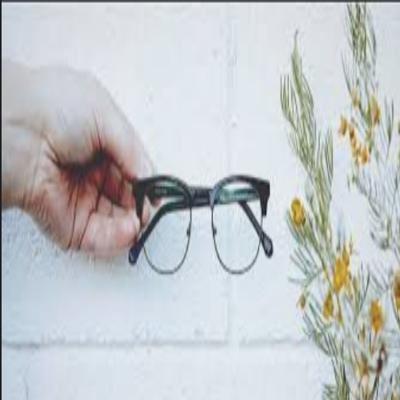glasses: (123, 172, 278, 279)
